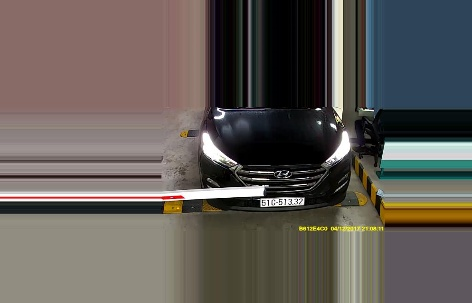plate: (257, 195, 307, 209)
